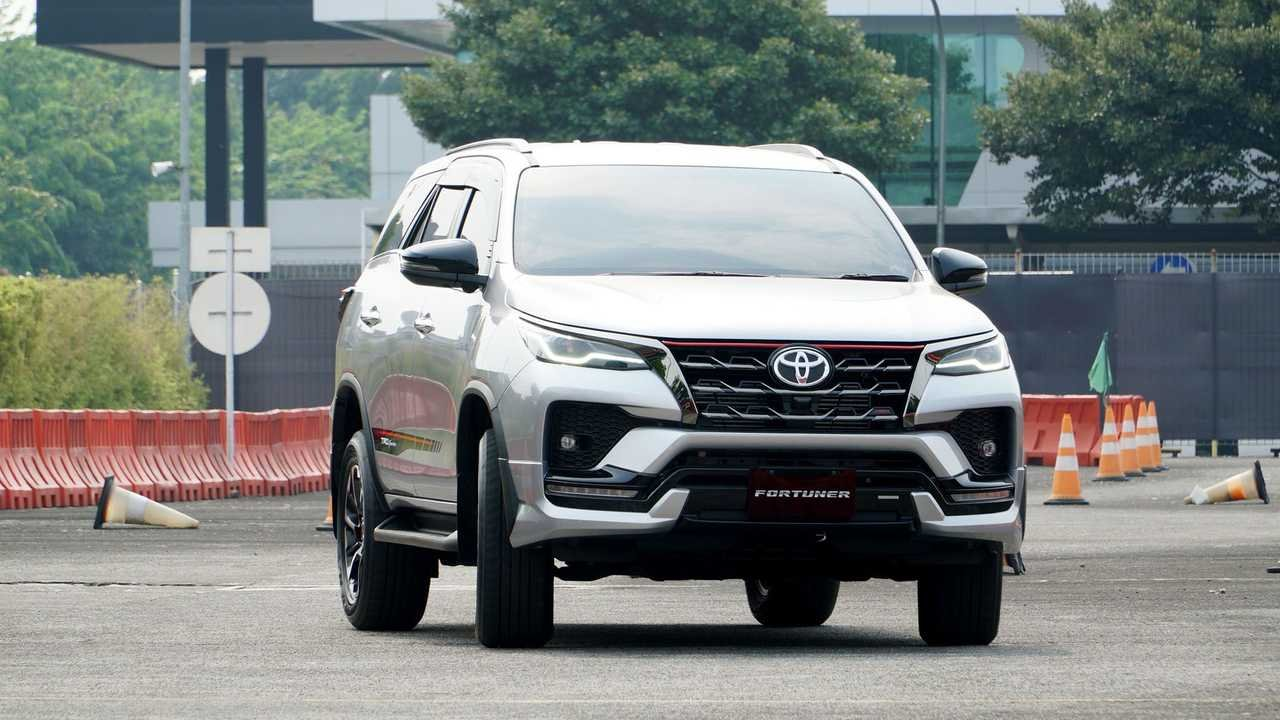mobil: (326, 125, 1038, 675)
